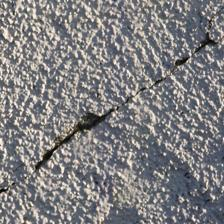Crack: (18, 22, 195, 151)
